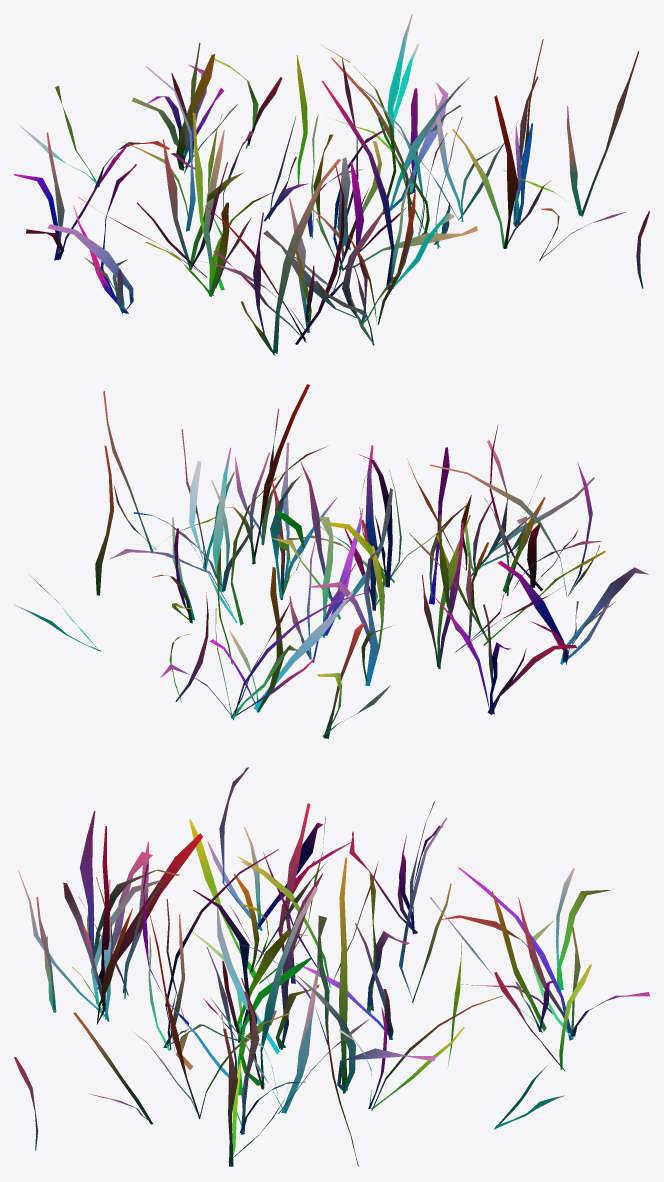
The model's file is Grass_Clumps_qmBr2_High_qmBr2_VarB_LOD0.fbx.
The picture shows the model from 3 angles, top to bottom: view 1: azimuth 30°, elevation 25°; view 2: azimuth 150°, elevation 25°; view 3: azimuth 270°, elevation 25°; orthographic projection. The views are drawn at different scales.
Visible parts, largest first — view 1: _beb7_VarB_LOD0; view 2: _beb7_VarB_LOD0; view 3: _beb7_VarB_LOD0.
Boxes of the visible parts, x1,y1,x2,y2 form: _beb7_VarB_LOD0: [14, 14, 649, 355]; _beb7_VarB_LOD0: [14, 384, 648, 738]; _beb7_VarB_LOD0: [14, 767, 649, 1166].
Size of the model in its own units: 74.98 by 23.04 by 65.6.
